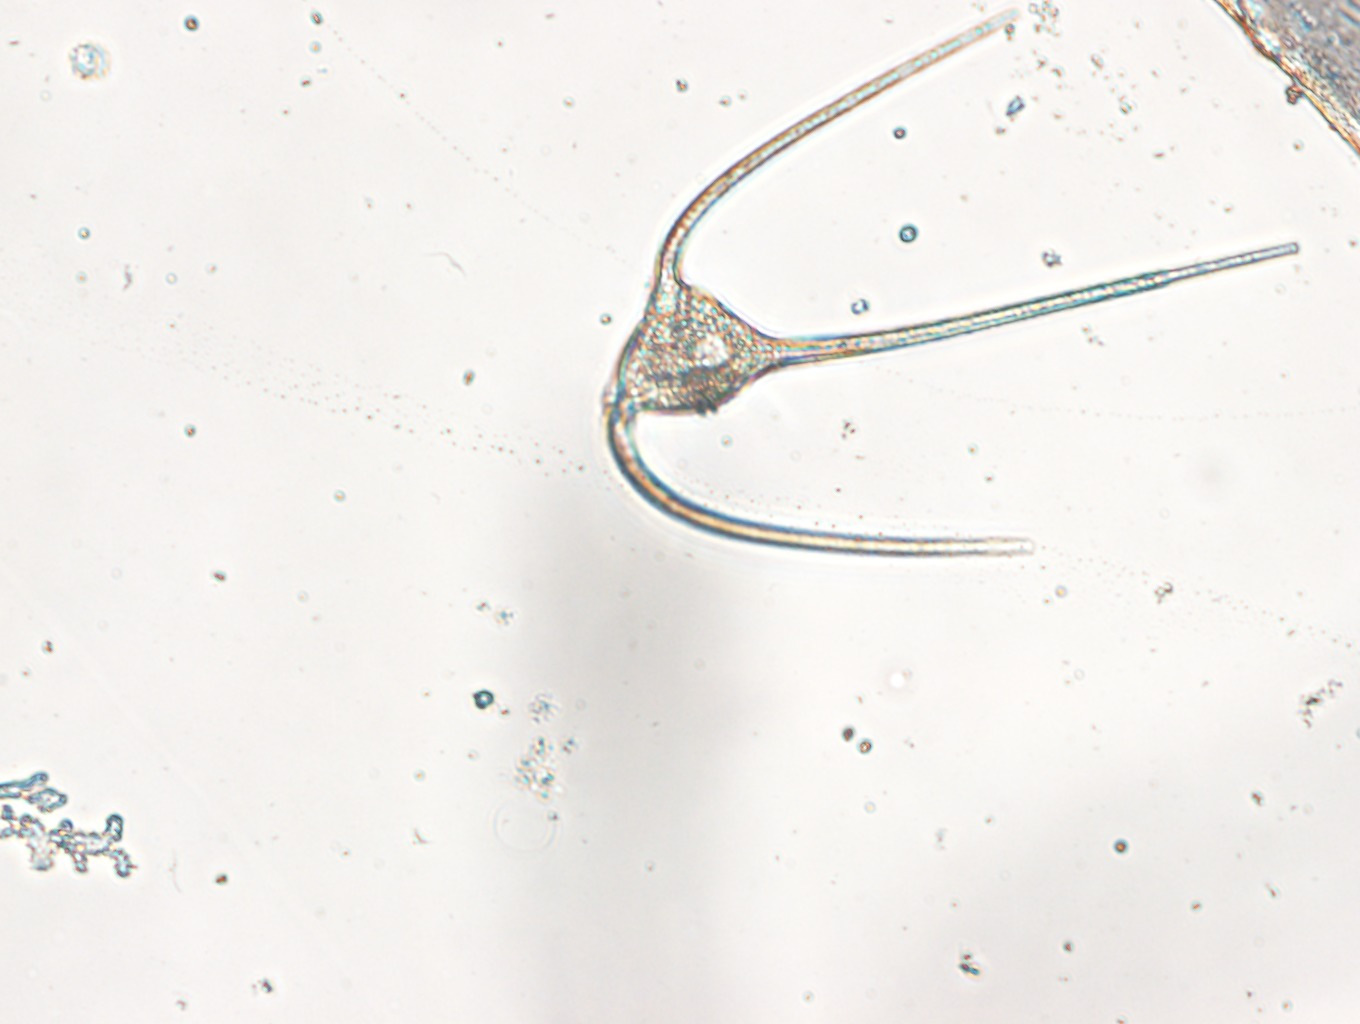ceratium trichoceros: (605, 9, 1302, 559)
